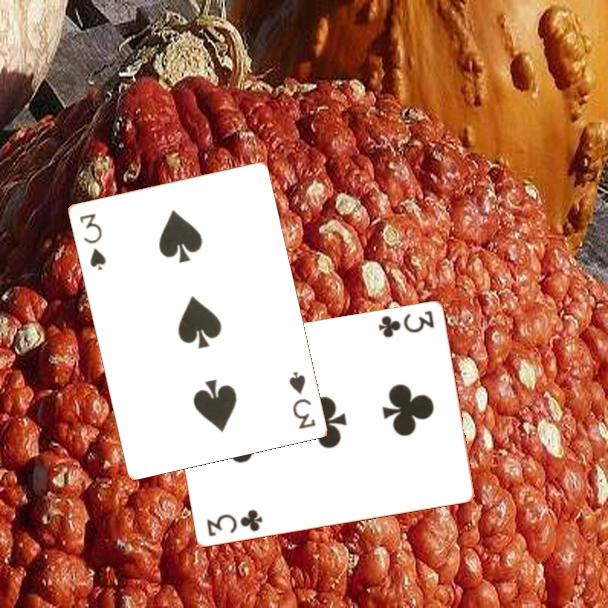c03: (203, 506, 265, 540), (375, 307, 437, 341)
s03: (75, 209, 109, 273), (285, 368, 318, 432)
